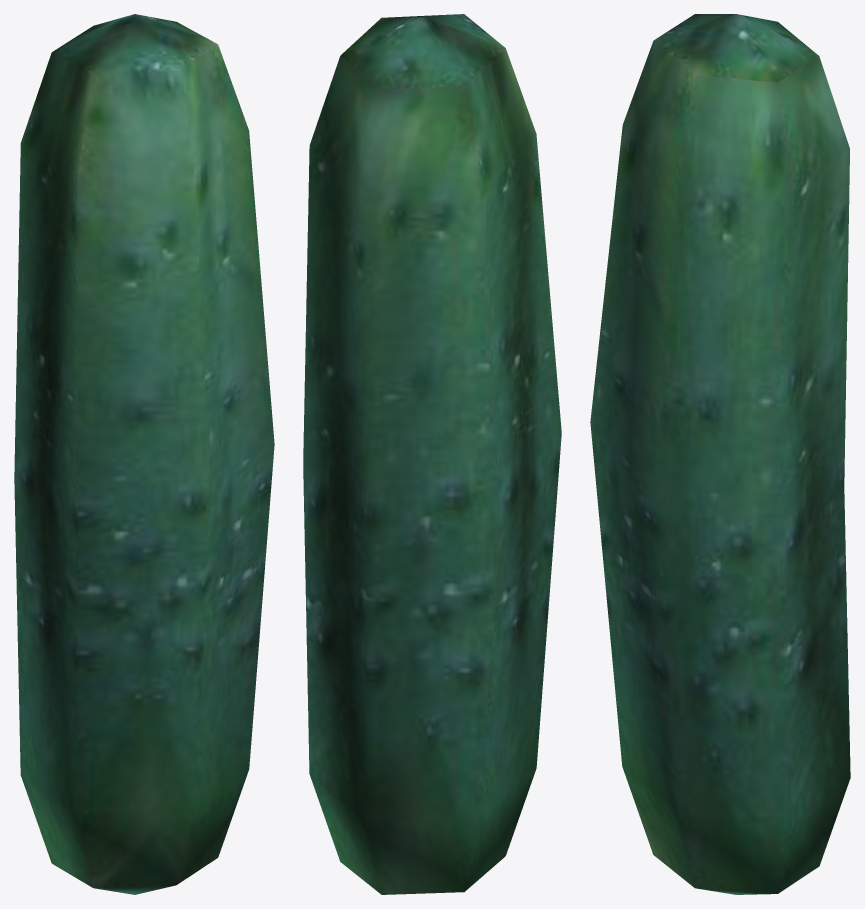
Rendered from Cucumber.glb.
The picture shows the model from 3 angles, left to right: view 1: azimuth 30°, elevation 25°; view 2: azimuth 150°, elevation 25°; view 3: azimuth 270°, elevation 25°; orthographic projection.
Parts seen in each view (by area): view 1: Cucumber; view 2: Cucumber; view 3: Cucumber.
Part boxes in pixels (box(x1,y1,x2,y2)): Cucumber: box(14, 14, 274, 894); Cucumber: box(303, 14, 561, 894); Cucumber: box(590, 14, 850, 894).
Size of the model in its own units: 0.0692 by 0.2961 by 0.0793.
1 material, 1 textured.
